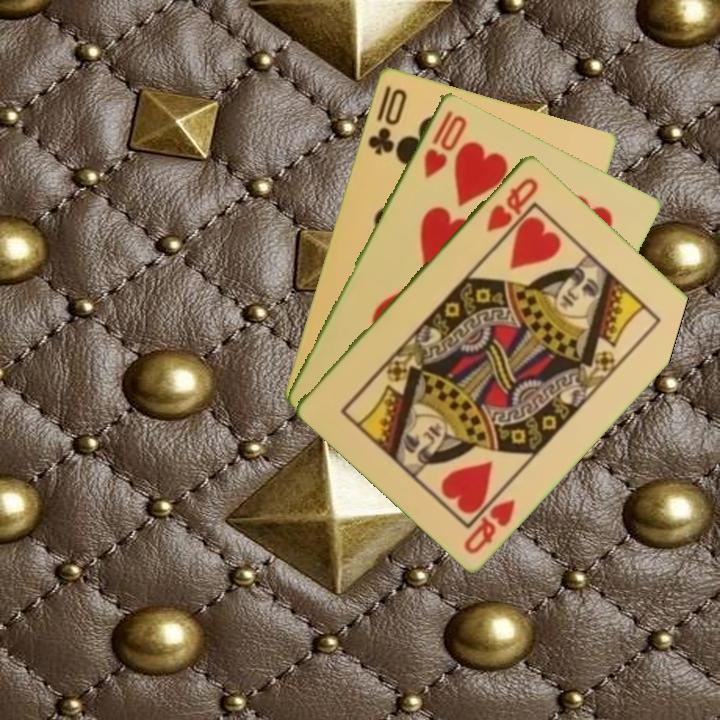10c: (364, 82, 410, 157)
10h: (420, 105, 469, 180)
Qh: (482, 173, 542, 234), (460, 495, 519, 556)
